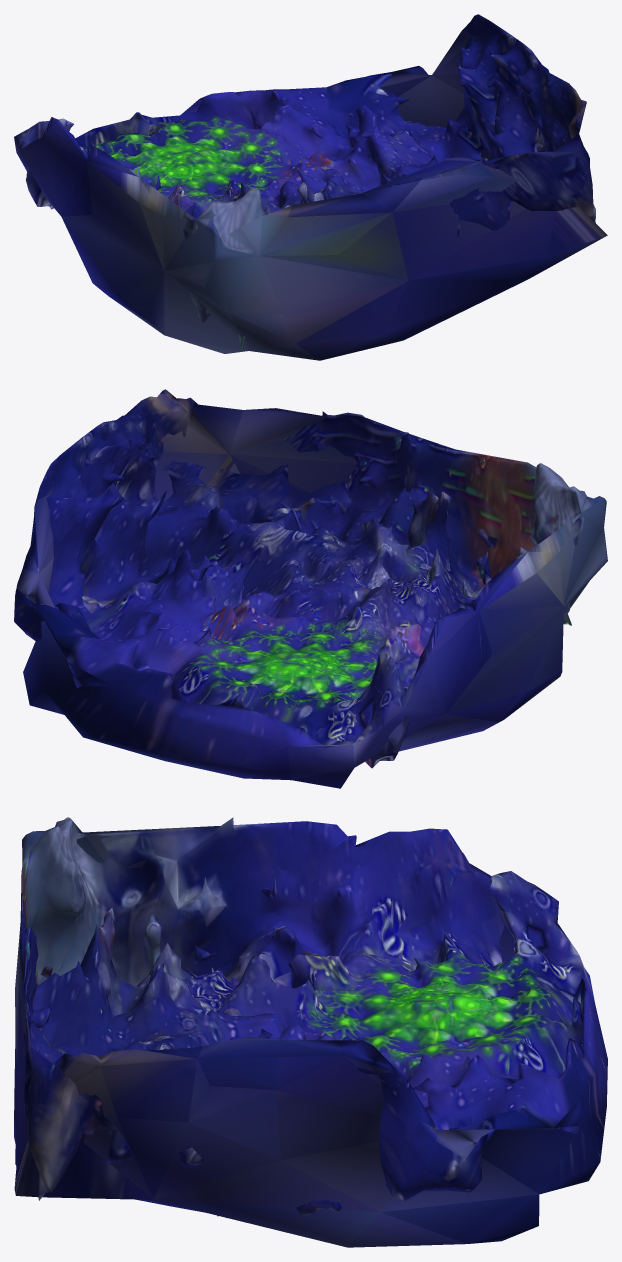
Rendered from levelup1253P190522.glb.
The picture shows the model from 3 angles, top to bottom: view 1: azimuth 30°, elevation 25°; view 2: azimuth 150°, elevation 25°; view 3: azimuth 270°, elevation 25°; orthographic projection. The views are drawn at different scales.
Visible parts, largest first — view 1: levelup_1320P190522; view 2: levelup_1320P190522; view 3: levelup_1320P190522.
Part boxes in pixels (x1,y1,x2,y2): levelup_1320P190522: [14, 14, 607, 360]; levelup_1320P190522: [14, 389, 607, 788]; levelup_1320P190522: [14, 817, 607, 1247].
Bounding box in the file's own units: 12.07 × 5.06 × 11.48.
Materials: 1 (1 with a texture image).
